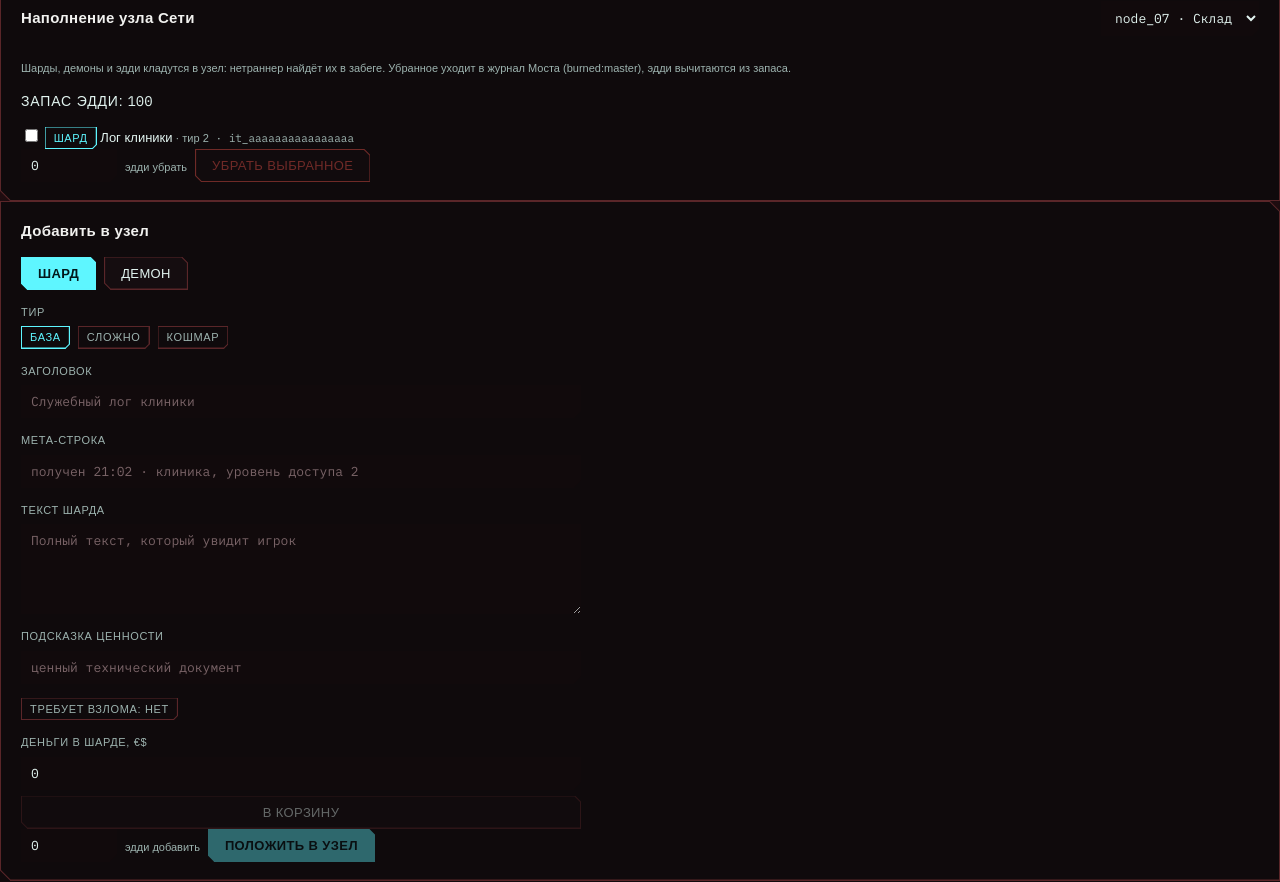
Test: StockForm › запас узла виден; шард из корзины и эдди уходят одним POST …/stock с rid и без payload — его собирает сервер
Expected: the text "Лог клиники" is shown, [100,130,173,144]
In the field with placeholder "Служебный лог клиники": (301, 402) [21,385,581,418], type "Новый шард"
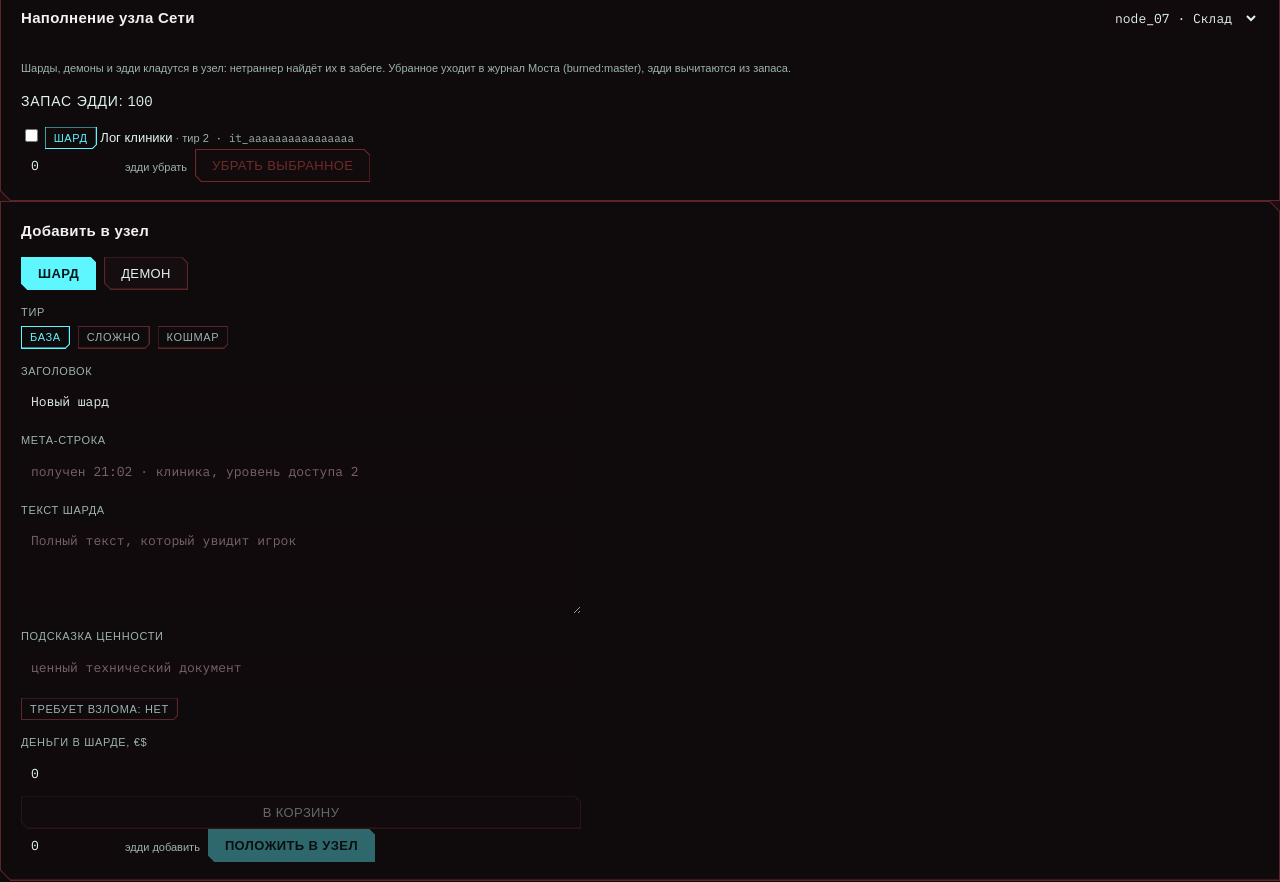
In the text box with placeholder "Полный текст, который увидит игрок": (301, 569) [21,524,581,614], type "Текст"
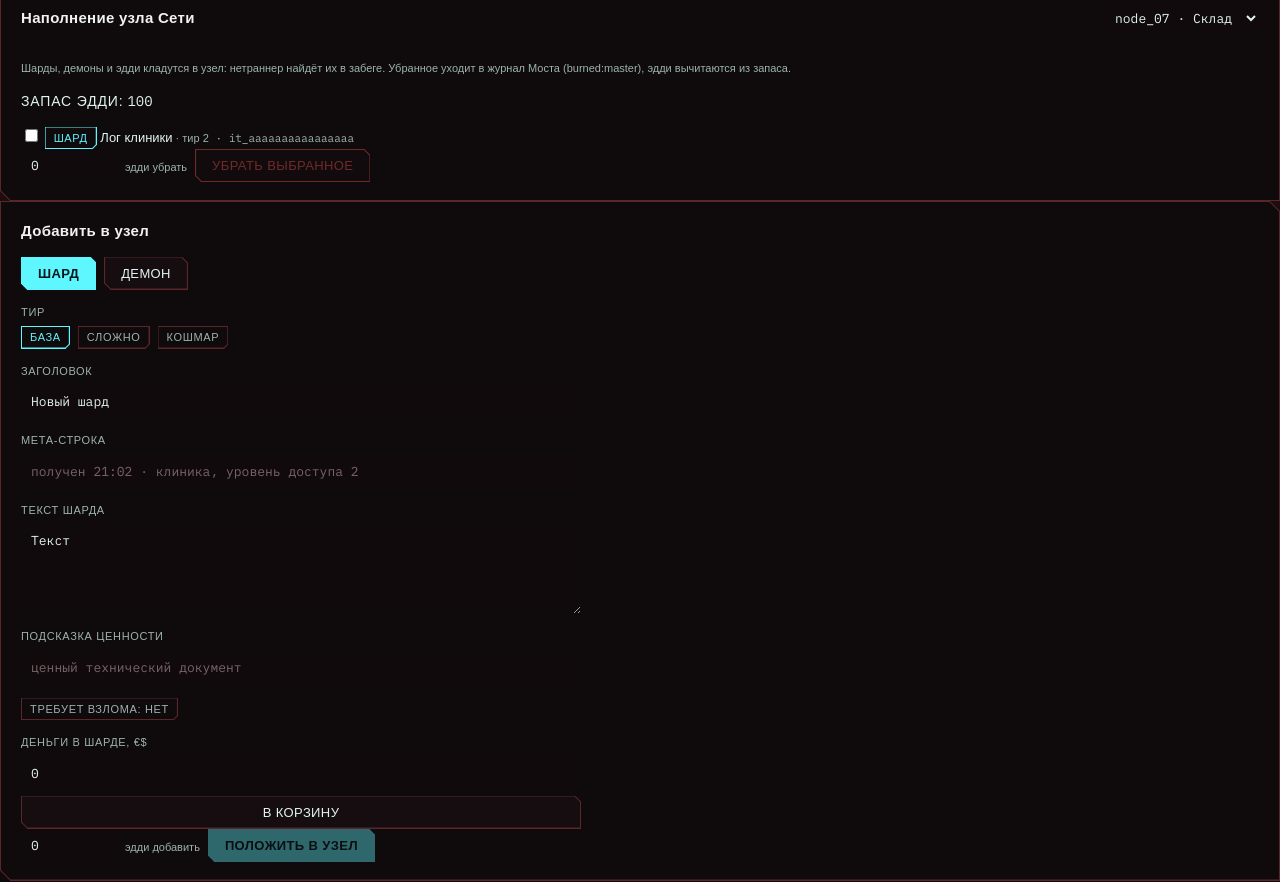
Click the button "в корзину": (301, 812) [21,796,581,828]
(page scrolled)
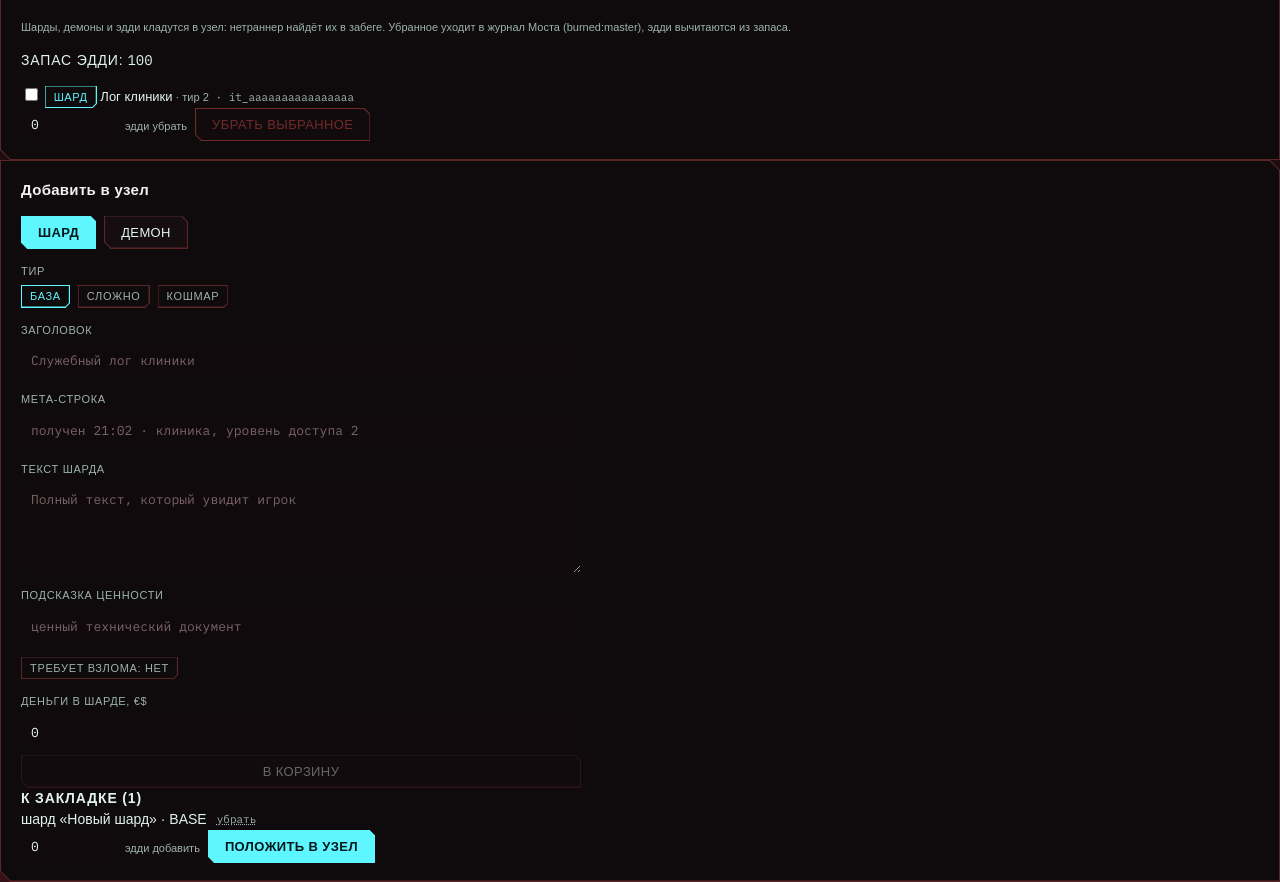
Replace the text in the field named "сколько эдди добавить" with "50": (69, 846) [21,830,117,862]
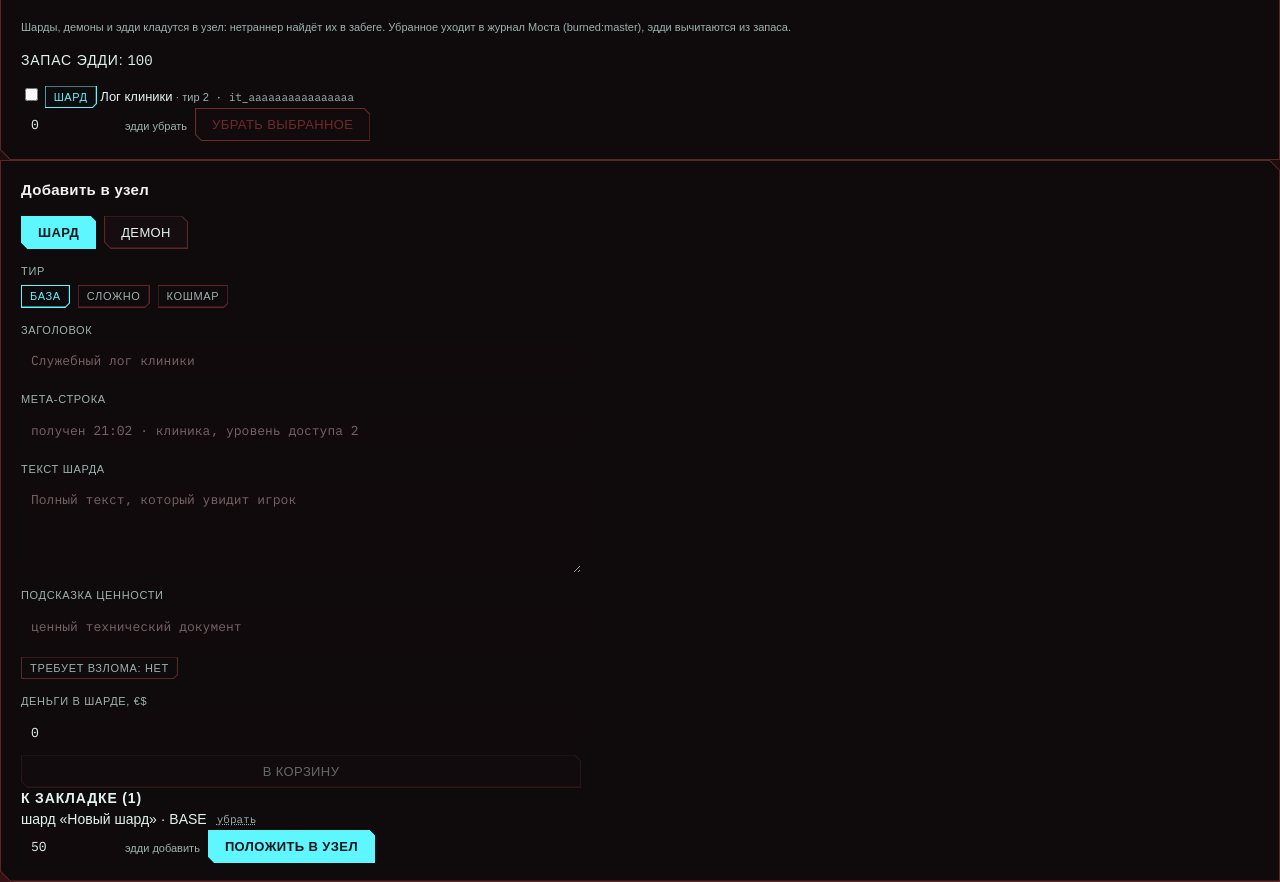
Click the button "положить в узел": (291, 846) [208,830,375,862]
(page scrolled)
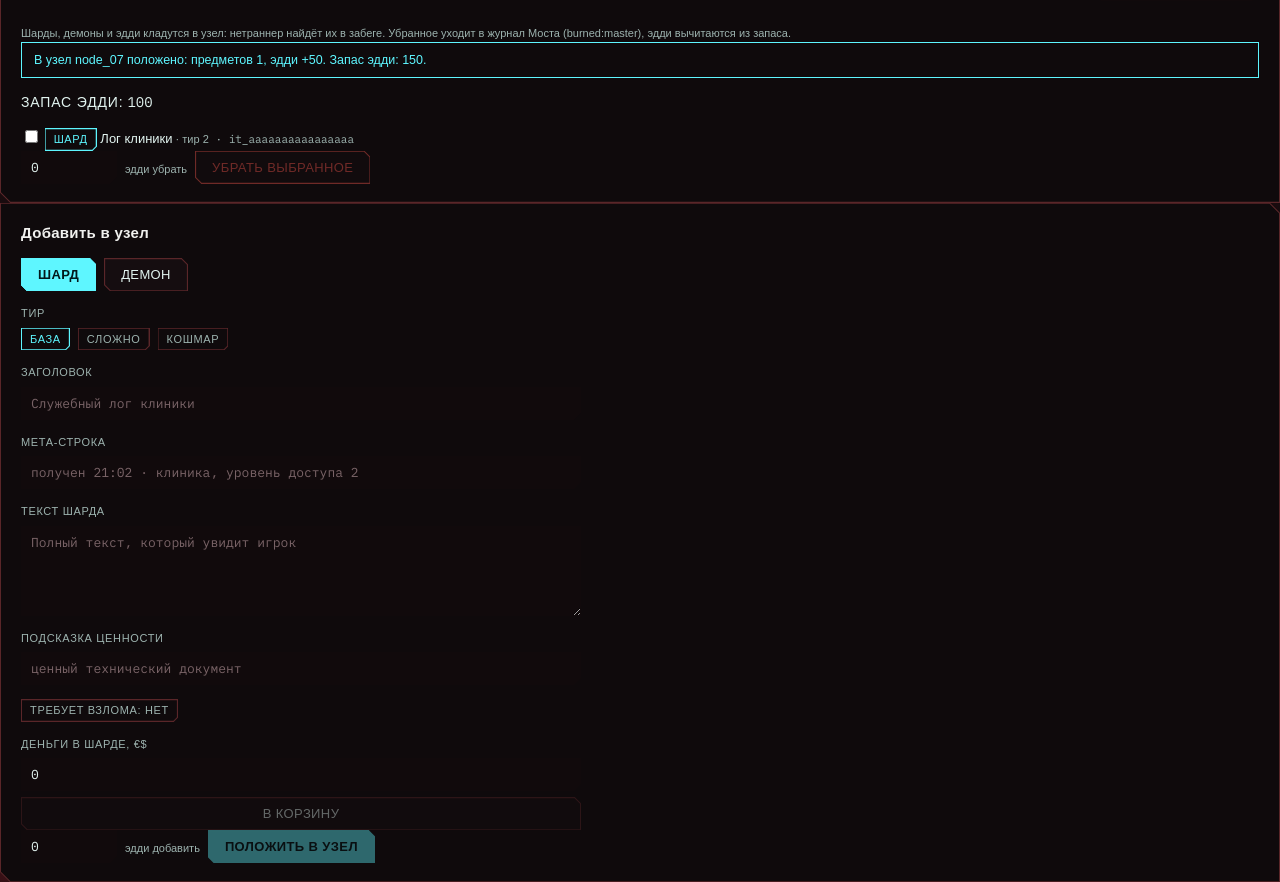
Expected: the text "Запас эдди: 150" is shown, [34,52,426,66]
